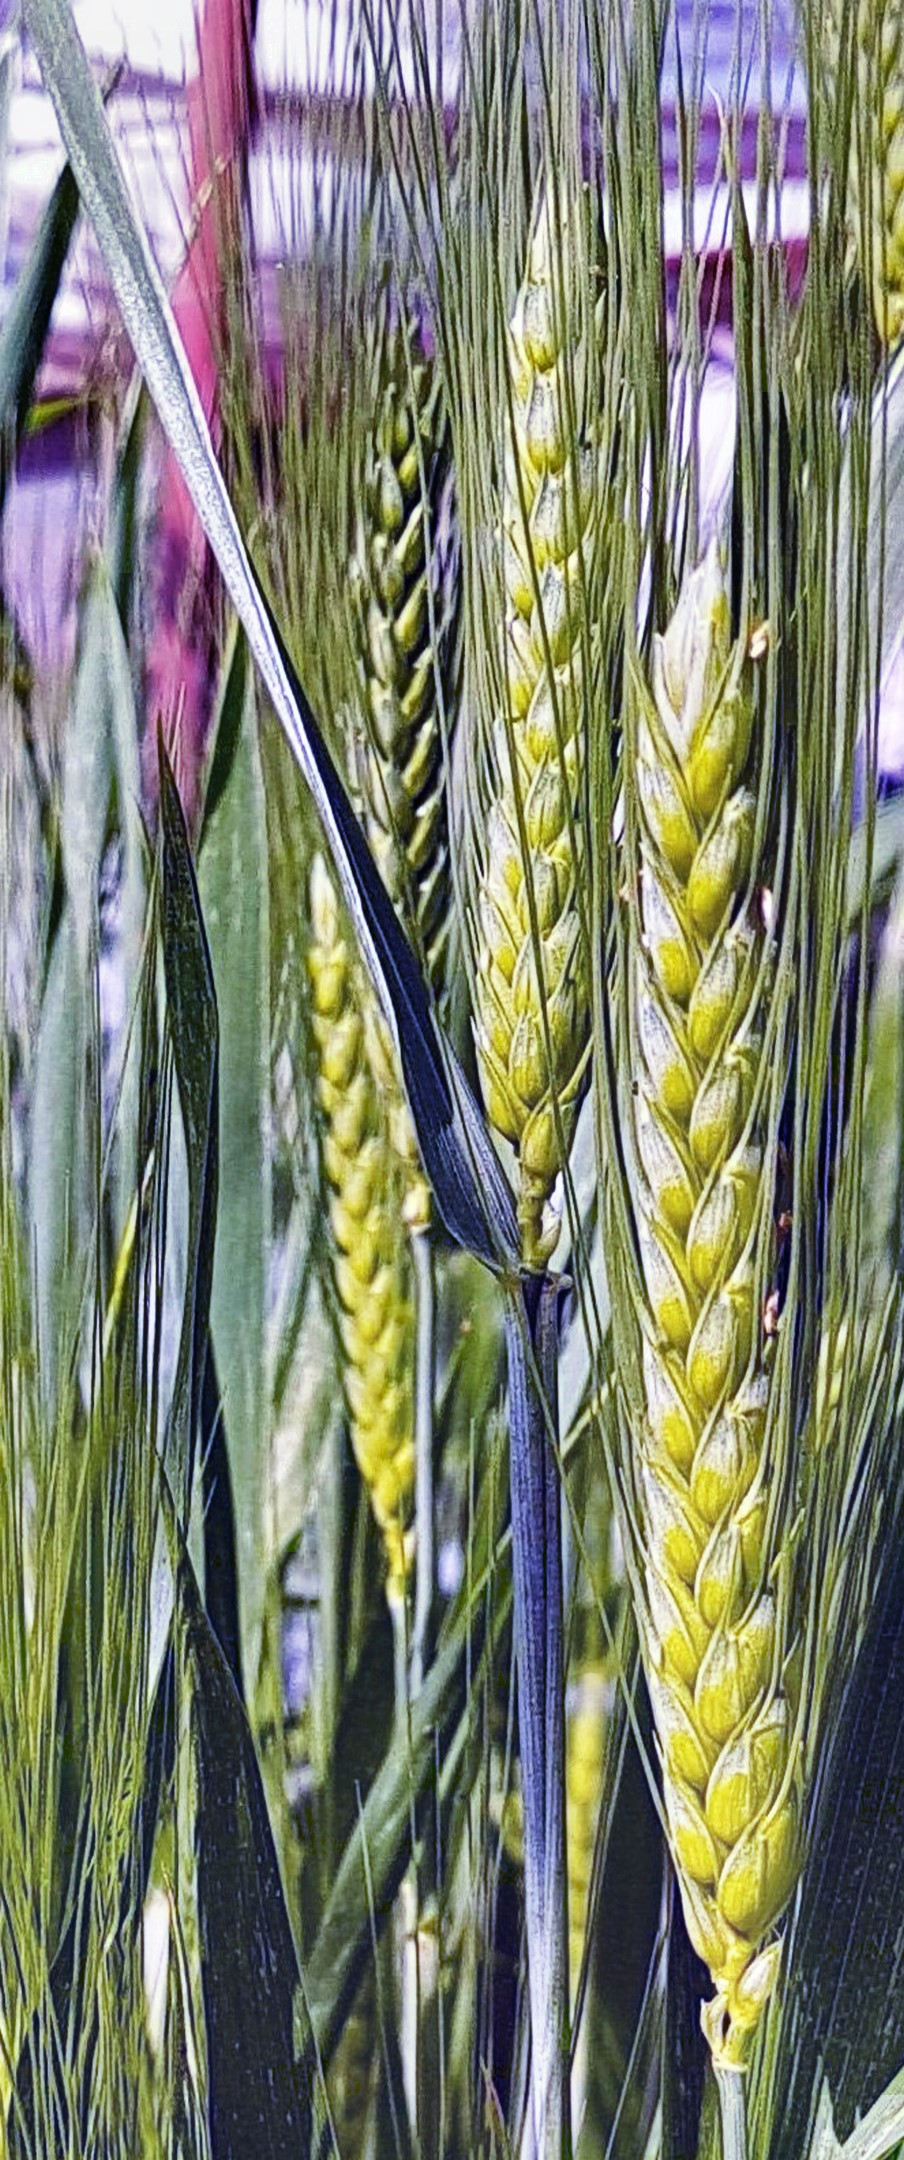Healthy Wheat: (599, 598, 870, 1989)
